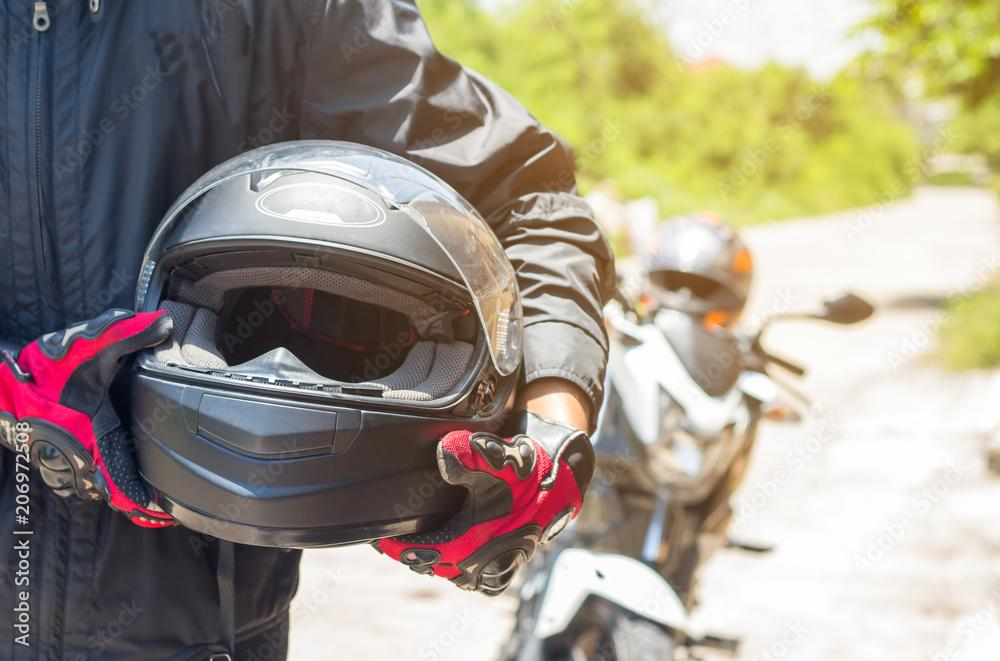helmet: (111, 137, 527, 553)
